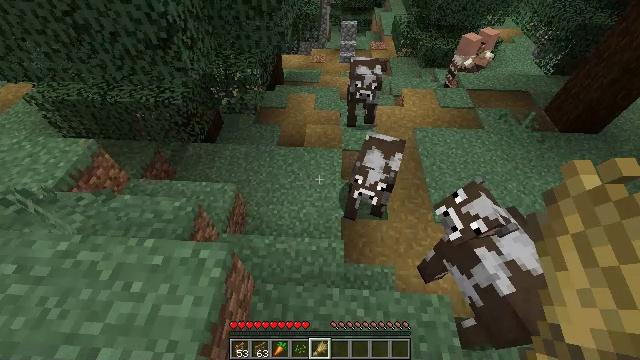cow: (417, 180, 550, 351), (350, 130, 407, 219), (348, 57, 380, 125)
